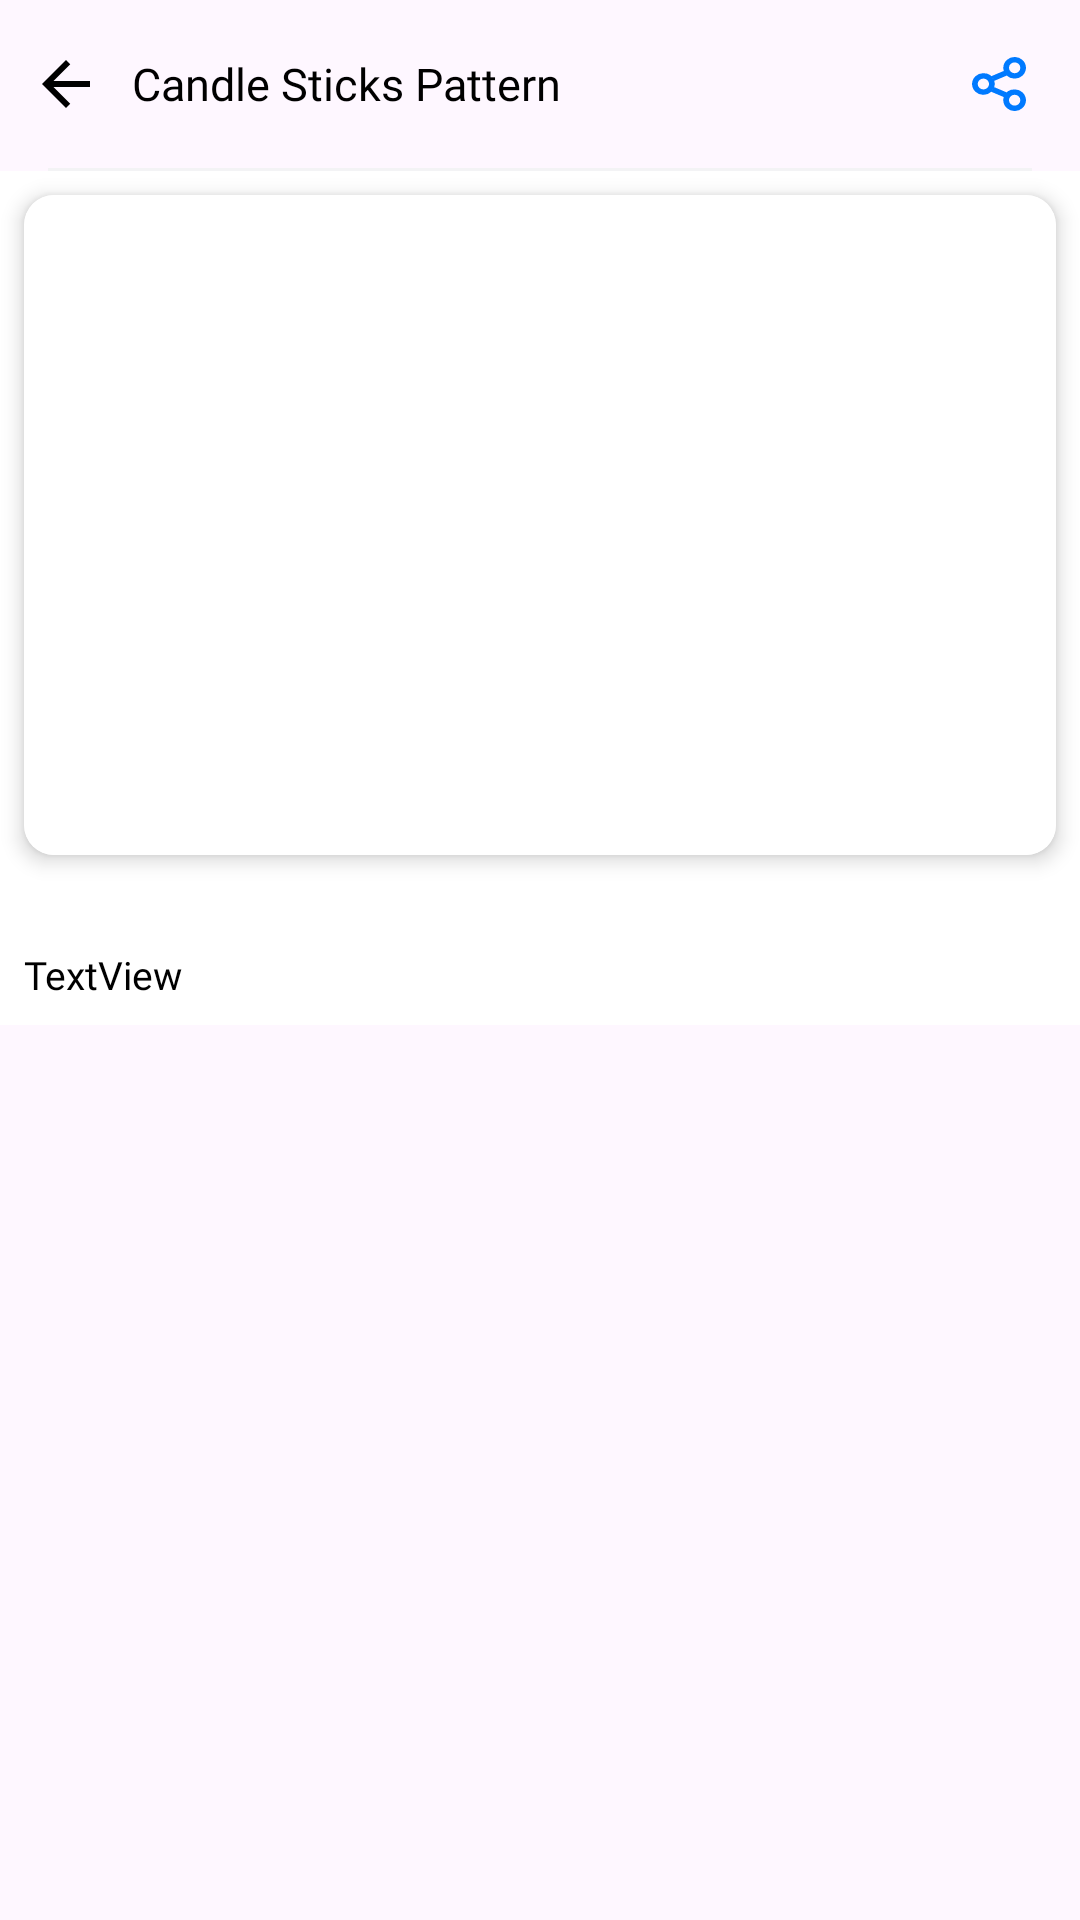

Icons on this 1080×1920 Android screen, each with its box as BBox(x1, y1, x2, y2):
arrow back: BBox(42, 60, 90, 108)
shares: BBox(972, 57, 1026, 111)
